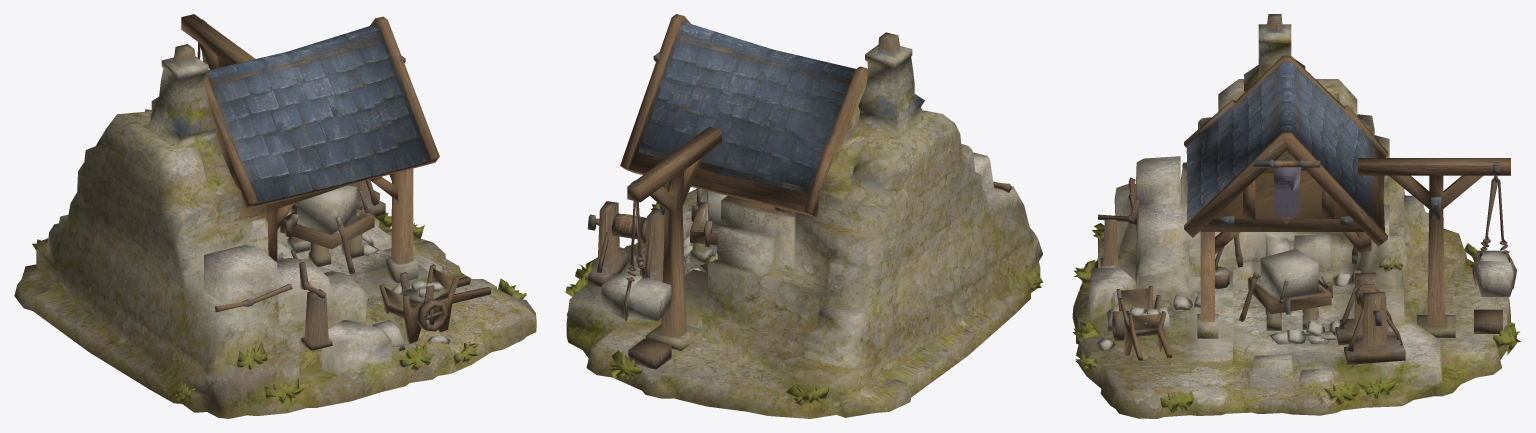
Rendered from camelot-quarry.glb.
The picture shows the model from 3 angles, left to right: view 1: azimuth 30°, elevation 25°; view 2: azimuth 150°, elevation 25°; view 3: azimuth 270°, elevation 25°; orthographic projection. The views are drawn at different scales.
Visible parts, largest first — view 1: tripo_node_39f56d93-571a-4c9d-aa61-9ad67efc3e8a; view 2: tripo_node_39f56d93-571a-4c9d-aa61-9ad67efc3e8a; view 3: tripo_node_39f56d93-571a-4c9d-aa61-9ad67efc3e8a.
Part boxes in pixels (x1,y1,x2,y2): tripo_node_39f56d93-571a-4c9d-aa61-9ad67efc3e8a: (14, 14, 536, 418); tripo_node_39f56d93-571a-4c9d-aa61-9ad67efc3e8a: (565, 14, 1043, 418); tripo_node_39f56d93-571a-4c9d-aa61-9ad67efc3e8a: (1072, 14, 1520, 418).
Size of the model in its own units: 0.916 by 0.6699 by 0.998.
Materials: 1 (1 with a texture image).
